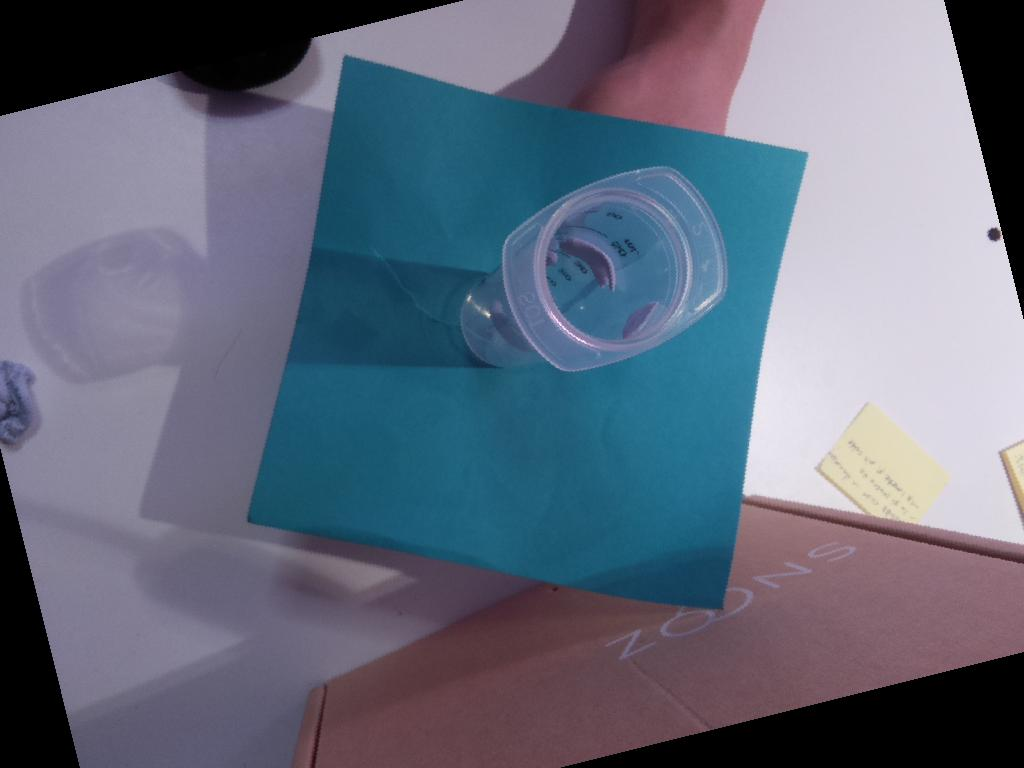dirty: (501, 166, 729, 371)
